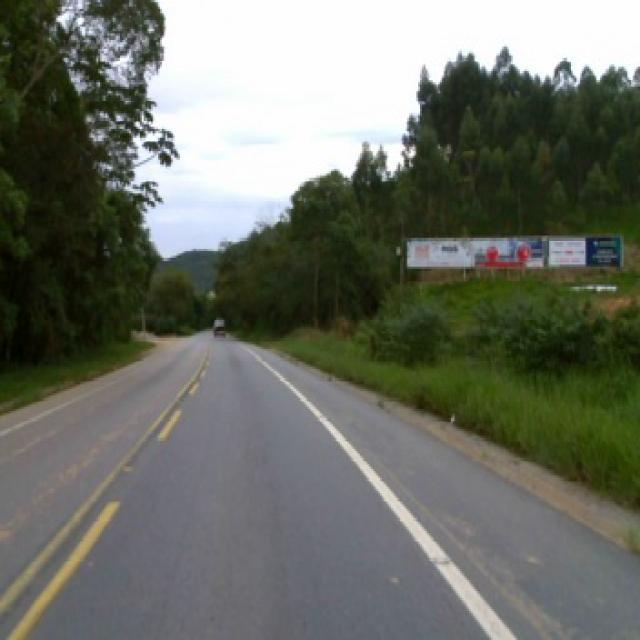Poth-hole: (429, 554, 449, 564), (120, 462, 133, 471)
